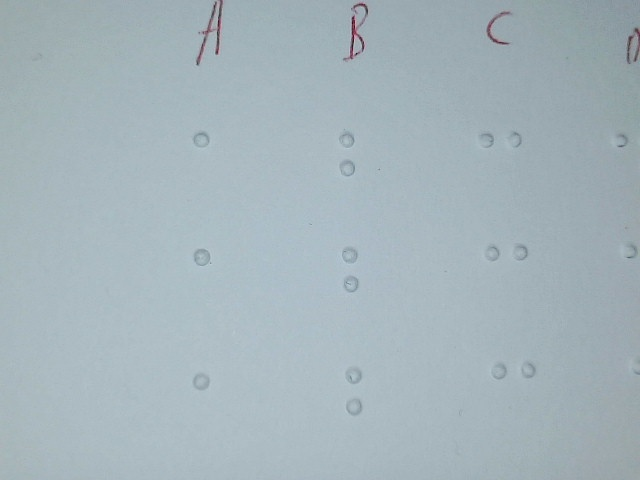A: (185, 123, 246, 214), (184, 237, 245, 328), (184, 361, 245, 452)
B: (338, 356, 402, 450), (334, 237, 398, 331), (331, 123, 395, 217)
C: (474, 121, 530, 203), (480, 234, 536, 316), (486, 350, 542, 432)
